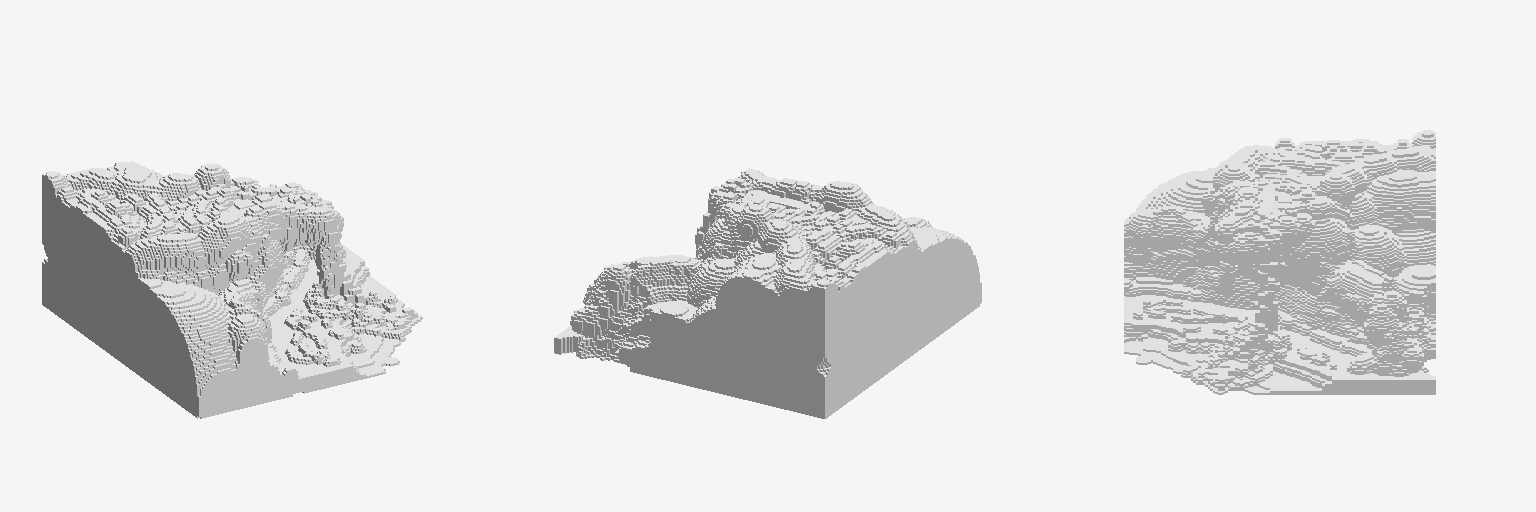
The model's file is Border3.obj.
3 views of the same model, side by side, from view 1: azimuth 30°, elevation 25°; view 2: azimuth 150°, elevation 25°; view 3: azimuth 270°, elevation 25° (orthographic).
Size of the model in its own units: 126 by 65 by 126.